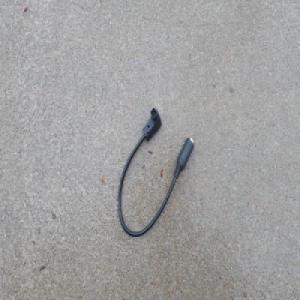Wire: (118, 106, 194, 237)
